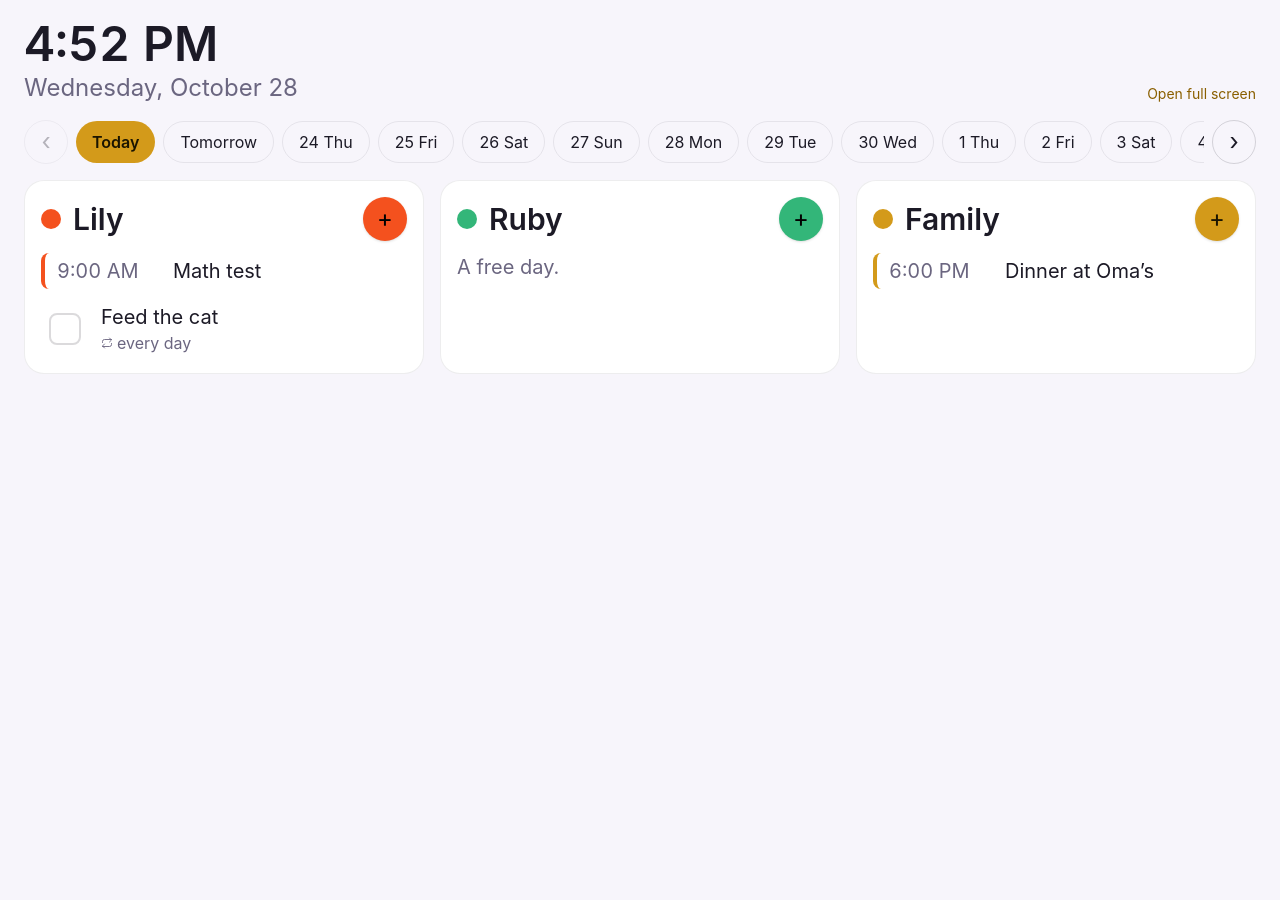
Test: a touch board › a + for an event opens the form already for that person
Click the button named "Add for Ruby" at (801,219), box [779,197,823,241]
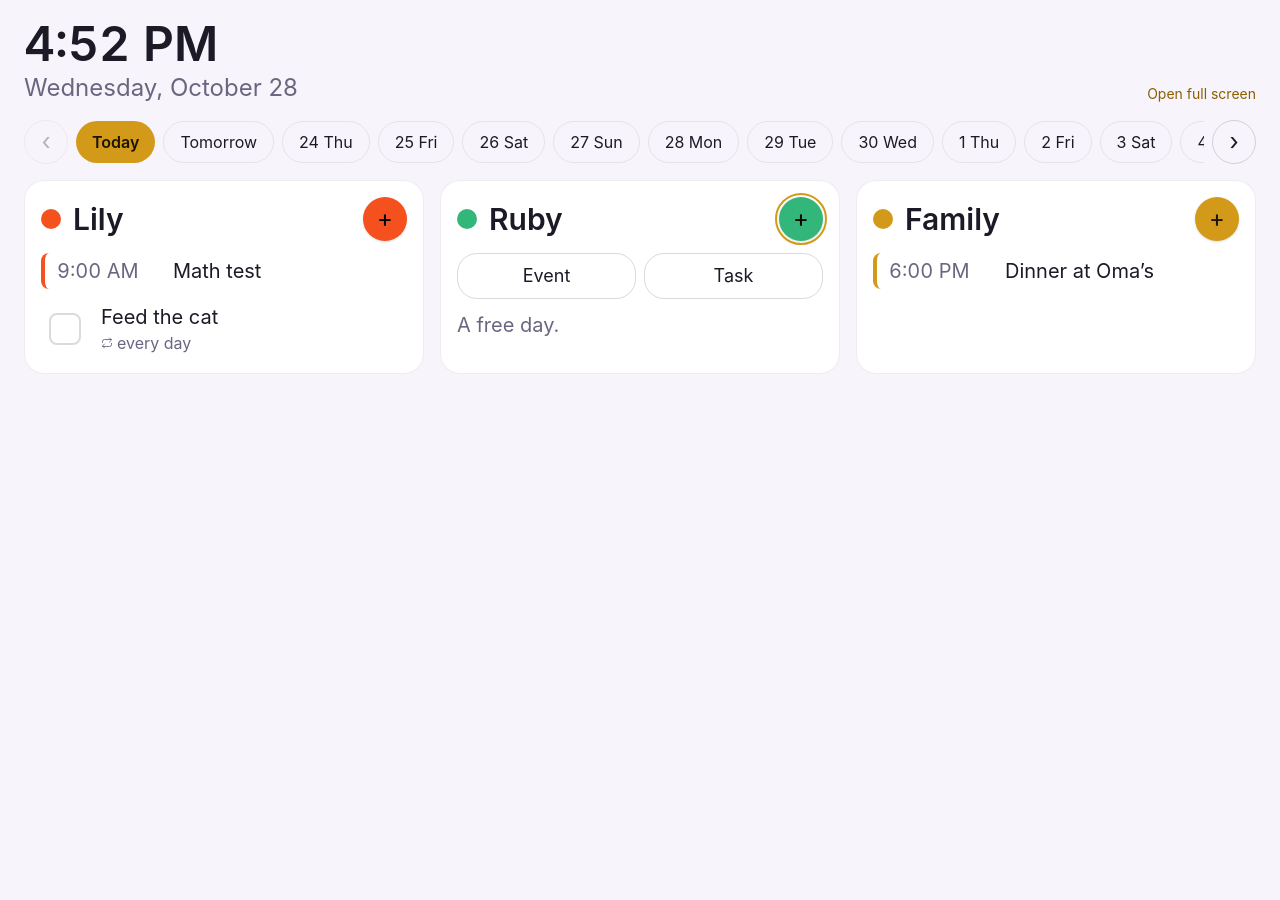
Click the button "Event" at (546,276), box [457,253,636,299]
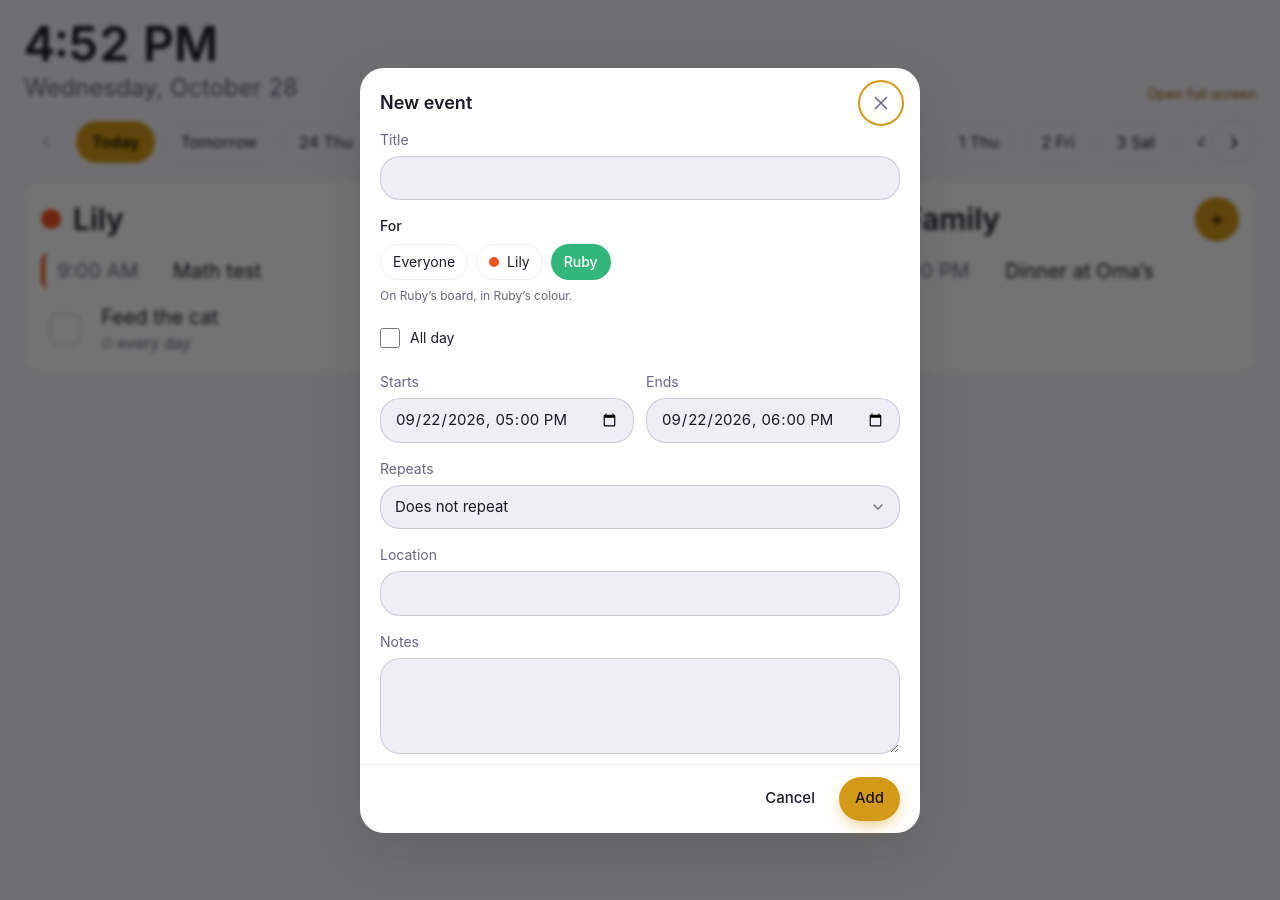
Expected: the button "Ruby" is shown, [551,244,611,280]
